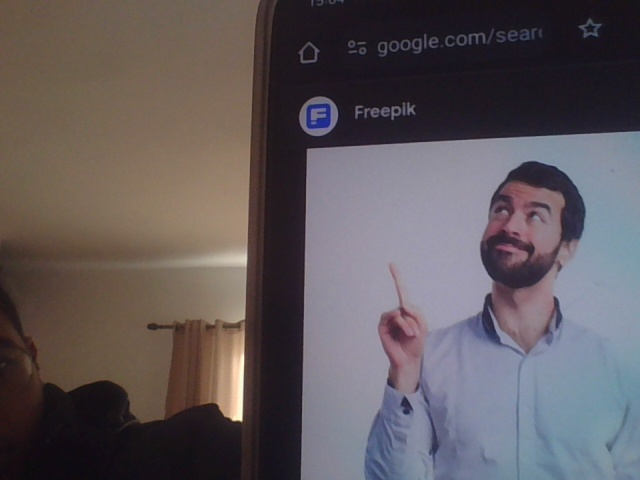fake: (474, 143, 577, 289)
